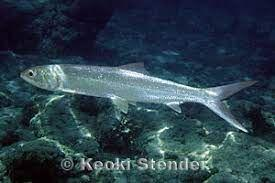Tenpounder: (19, 58, 257, 136)
